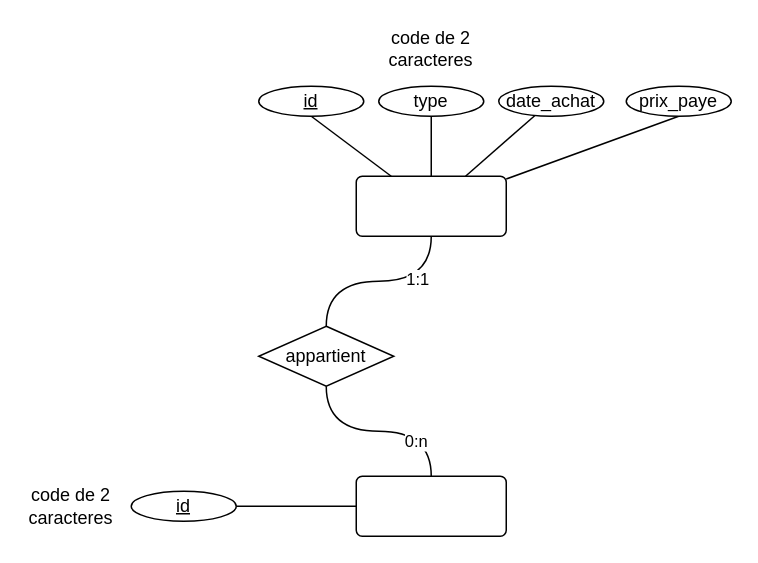
Some shapes in this 758 by 563 pixel diagram are drawn without their labels. Each missing label, with the centre of its shape:
"Billet" belongs at point 430,205.
"Categorie_skieur" belongs at point 430,505.
